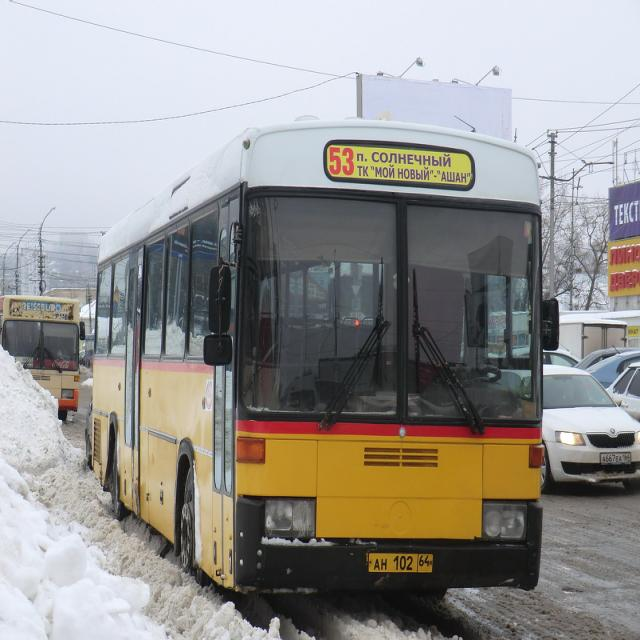number-of-bus: (327, 142, 356, 182)
